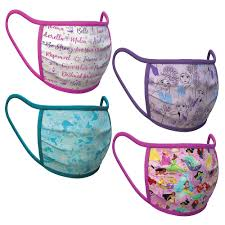cloth_mask: (4, 92, 112, 181)
